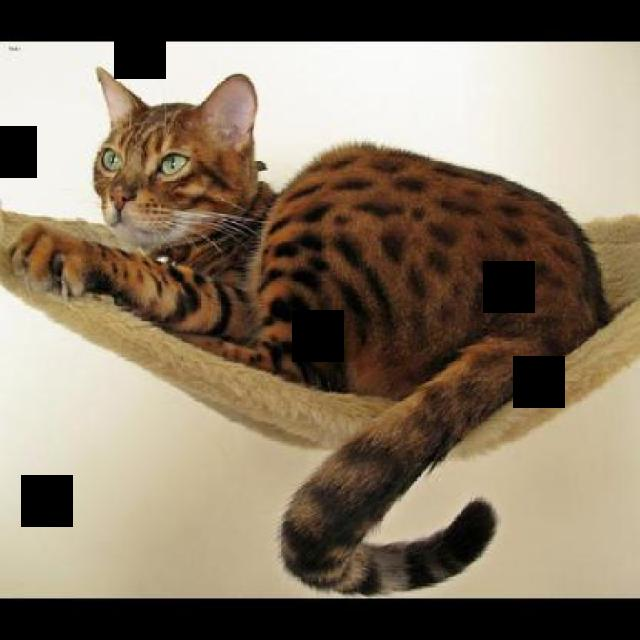unauthorized: (6, 64, 614, 596)
